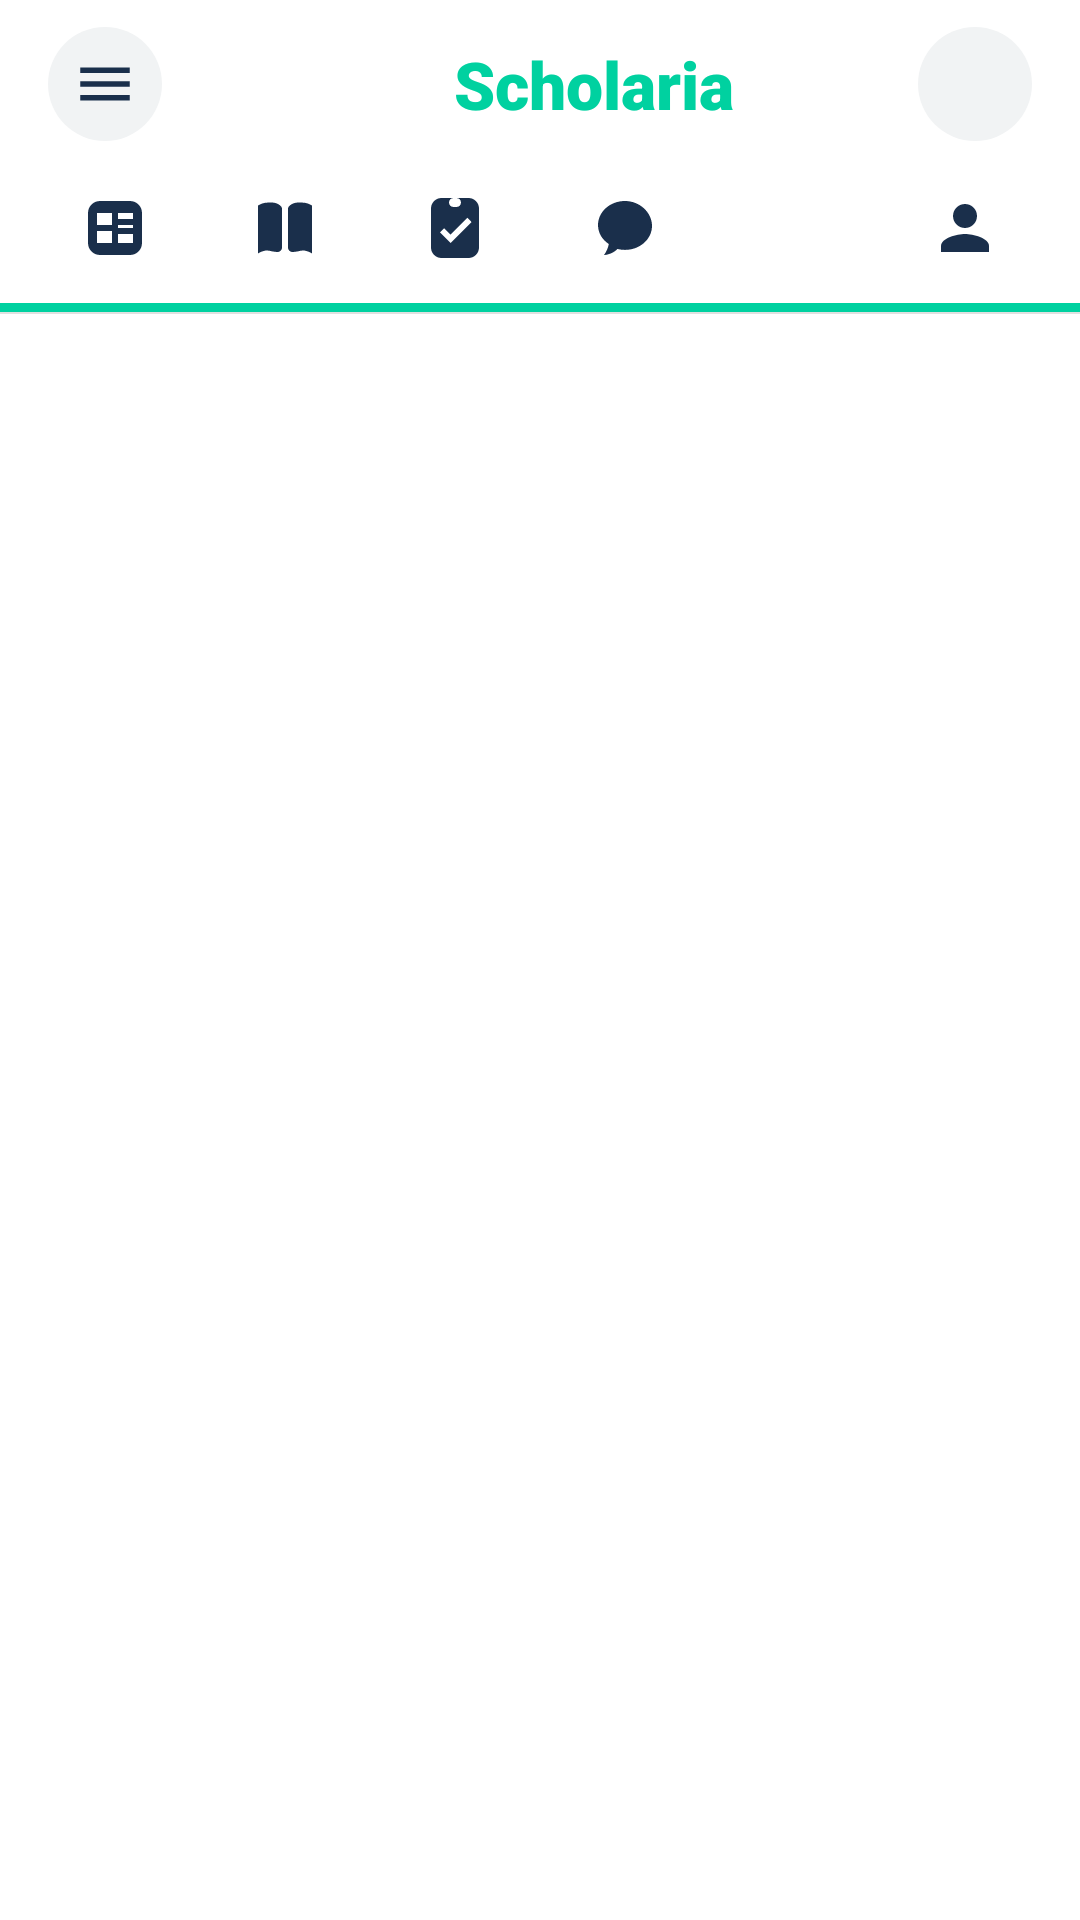

Locate icon controls on the screen. Image size 1080px×1920px, boxes as (x1, y1, x2, y2).
courses: (258, 202, 312, 254)
dashboard: (88, 201, 142, 255)
hamburger: (80, 67, 130, 101)
messages: (598, 201, 652, 255)
profile: (941, 204, 989, 252)
tasks: (431, 198, 479, 258)
